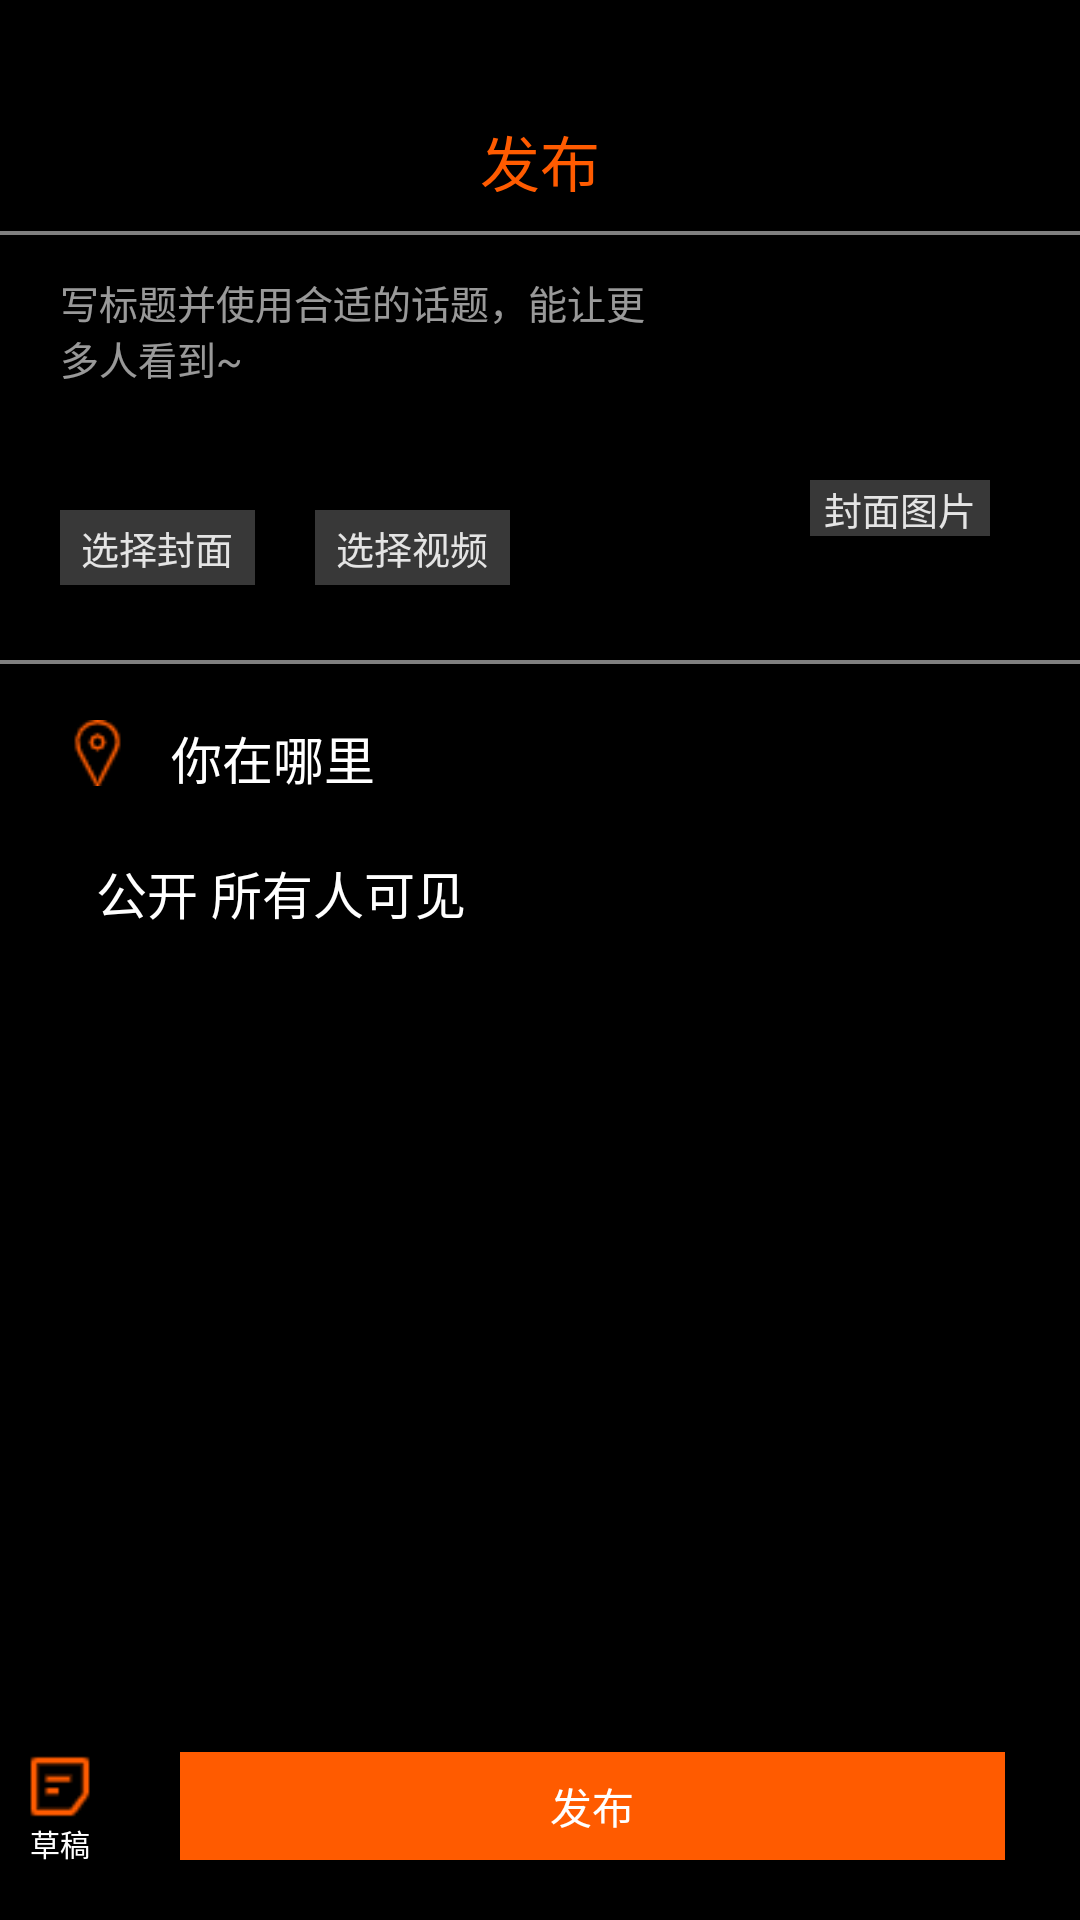

Named icons in this screenshot (1080×1920) and their bounding boxes, {"x1": x1, "y1": y1, "x2": x2, "y2": y2}:
locate: {"x1": 74, "y1": 720, "x2": 121, "y2": 786}
